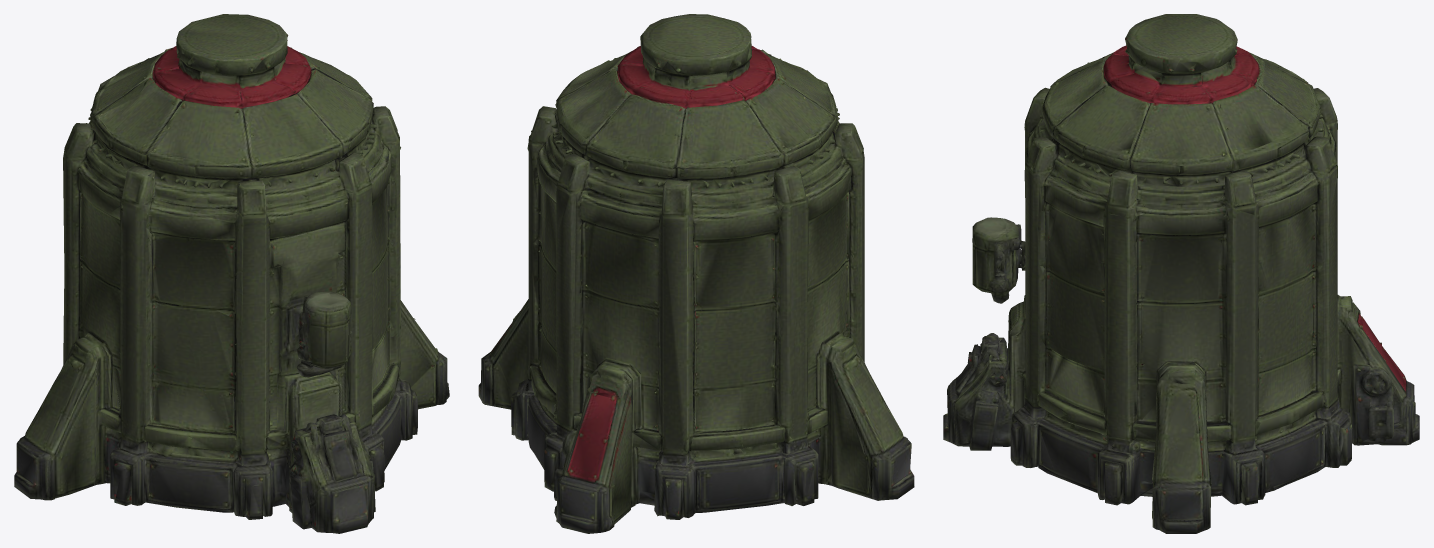
File: ore-silo.glb
The picture shows the model from 3 angles, left to right: view 1: azimuth 30°, elevation 25°; view 2: azimuth 150°, elevation 25°; view 3: azimuth 270°, elevation 25°; orthographic projection.
Parts seen in each view (by area): view 1: mesh_node; view 2: mesh_node; view 3: mesh_node.
Boxes of the visible parts, box(x1,y1,x2,y2) form: mesh_node: box(14, 14, 449, 533); mesh_node: box(478, 14, 914, 533); mesh_node: box(943, 14, 1419, 533).
Bounding box in the file's own units: 2 × 1.84 × 2.
1 material, 1 textured.
